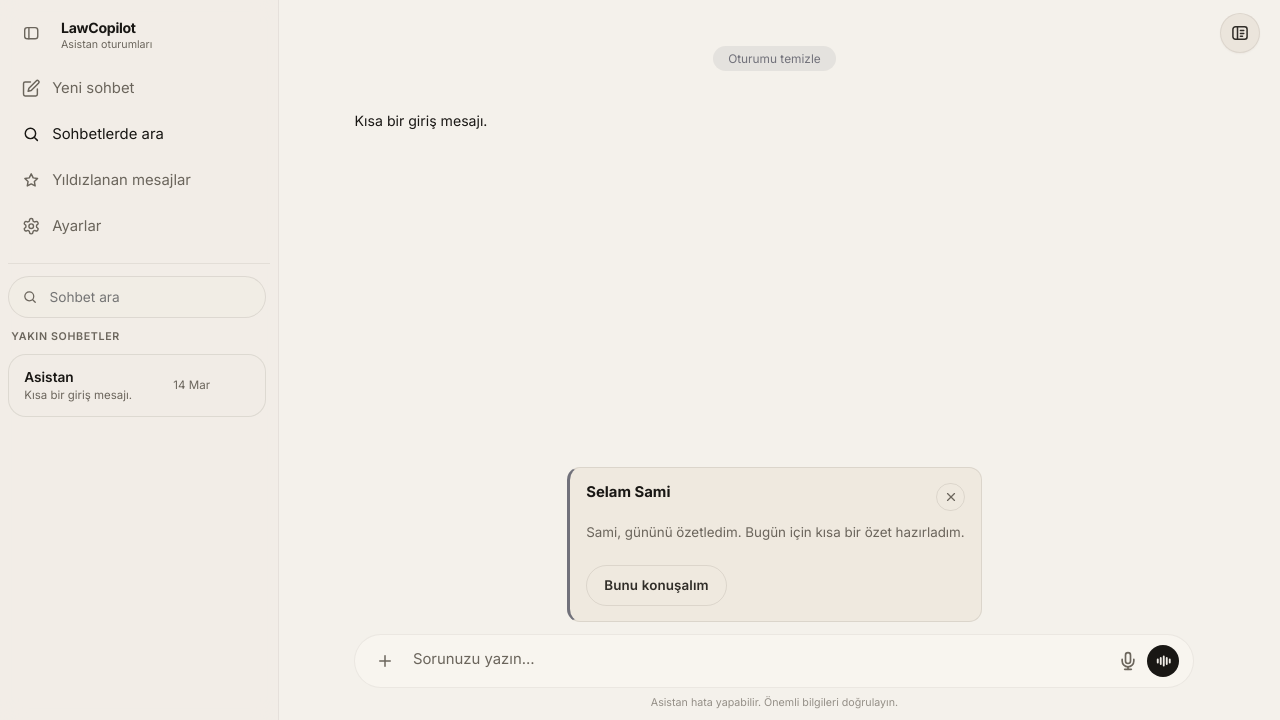
it: AssistantPage › can close the session summary without sending a reply
Click the button named "Özet panelini kapat": (951, 497) [936,483,965,511]
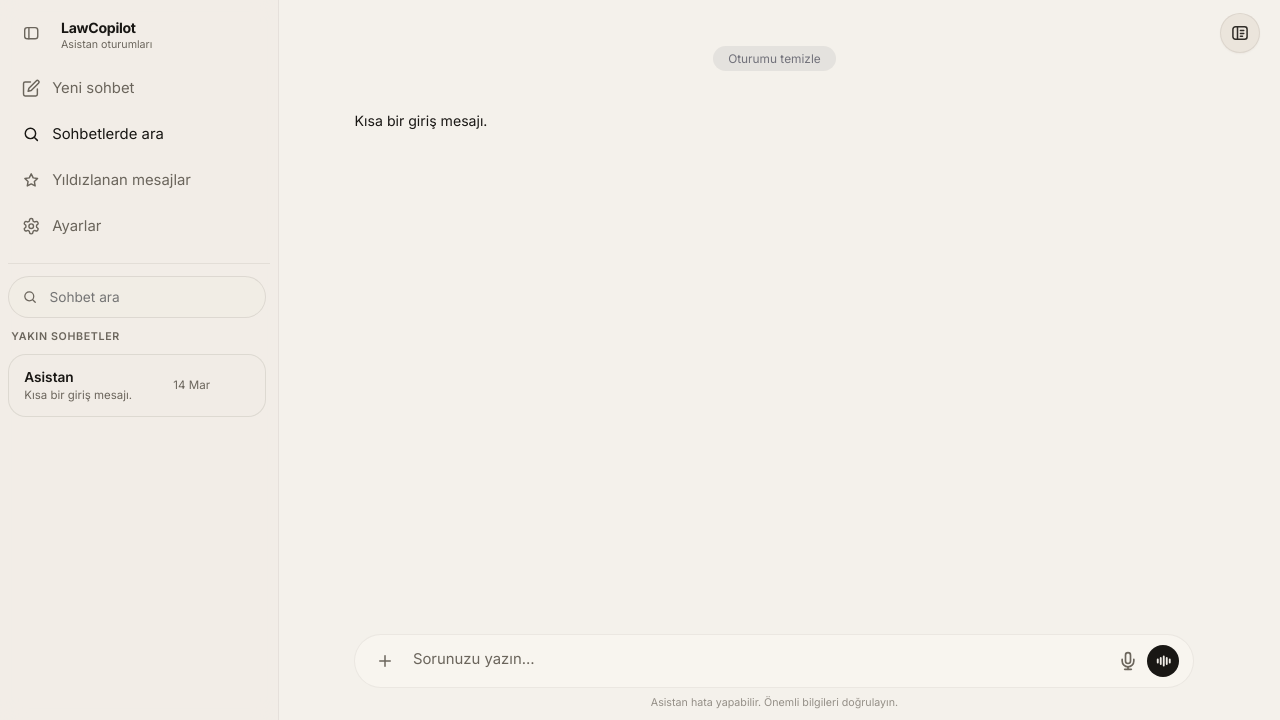
Expected: the button labelled "Özet panelini kapat" is gone
Expected: the text "Sami, gününü özetledim." is gone
